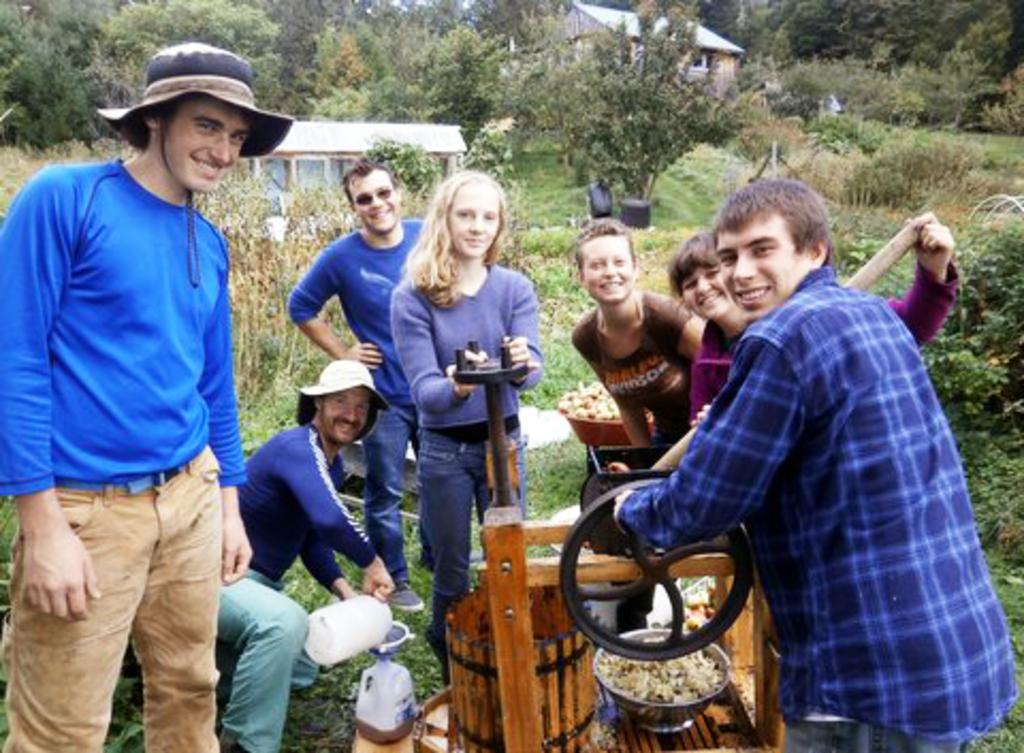Hat: (98, 40, 298, 287), (296, 362, 388, 447)
